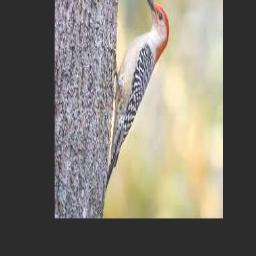Woodpecker: (105, 0, 170, 191)
